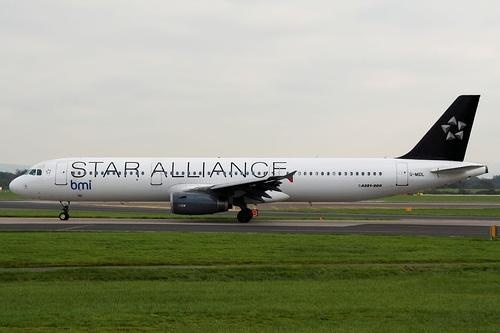aeroplane: (9, 91, 492, 226)
